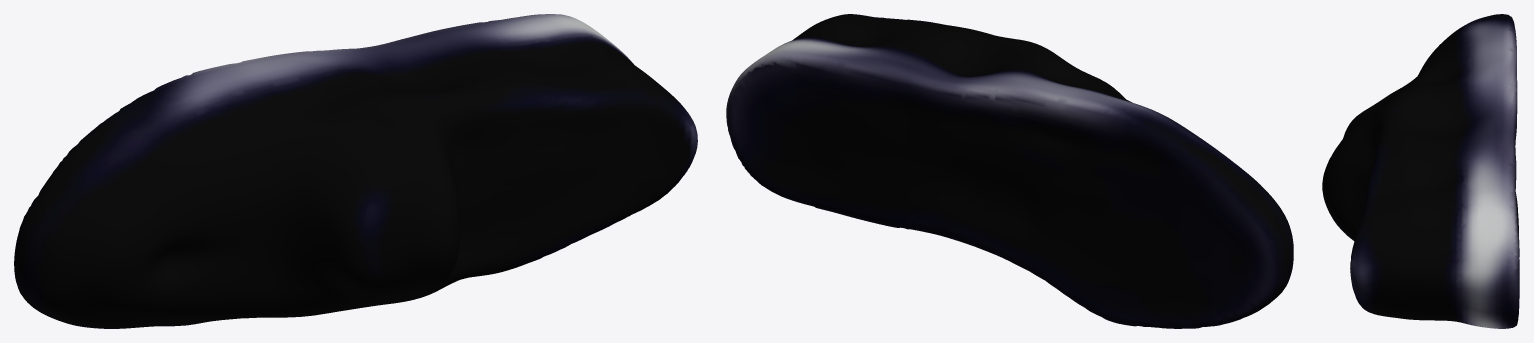
File: shoe.glb
The picture shows the model from 3 angles, left to right: view 1: azimuth 30°, elevation 25°; view 2: azimuth 150°, elevation 25°; view 3: azimuth 270°, elevation 25°; orthographic projection. The views are drawn at different scales.
Size of the model in its own units: 0.9996 by 0.3694 by 0.3372.
